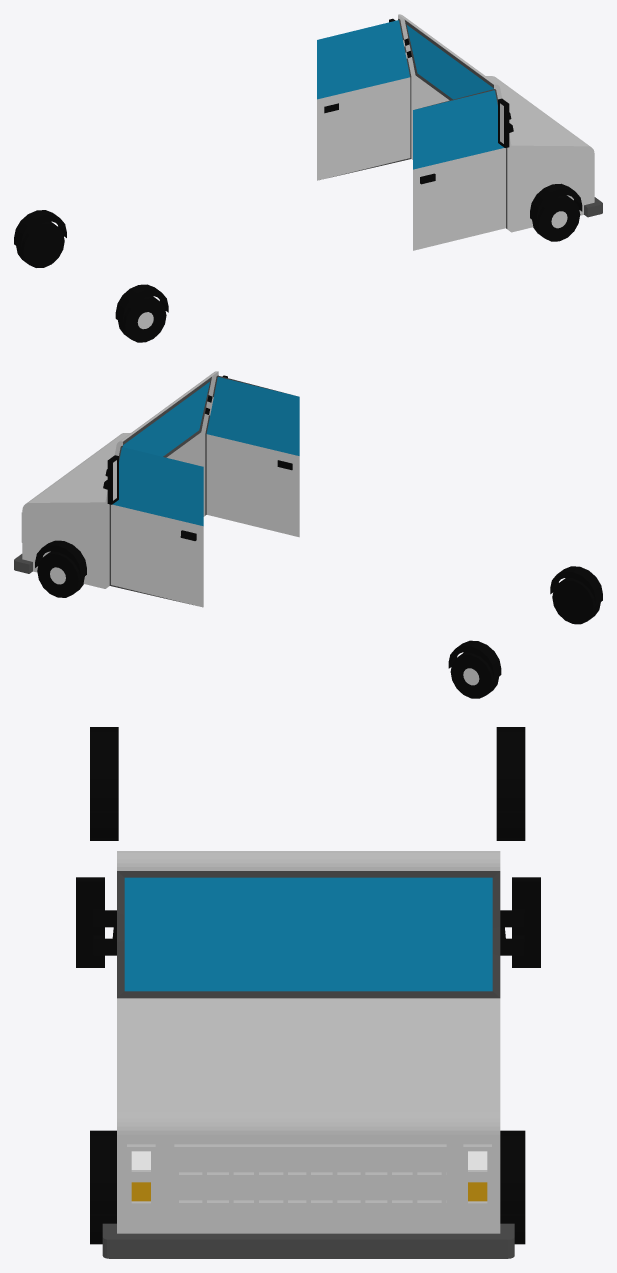
The model's file is truck_cab.glb.
The picture shows the model from 3 angles, top to bottom: view 1: azimuth 30°, elevation 25°; view 2: azimuth 150°, elevation 25°; view 3: azimuth 270°, elevation 25°; orthographic projection. The views are drawn at different scales.
Visible parts, largest first — view 1: truck_cab; view 2: truck_cab; view 3: truck_cab.
Part boxes in pixels (x1,y1,x2,y2): truck_cab: (14, 14, 602, 342); truck_cab: (14, 371, 602, 698); truck_cab: (76, 727, 540, 1258).
Bounding box in the file's own units: 7 × 2.29 × 2.91.
Materials: 1 (1 with a texture image).
